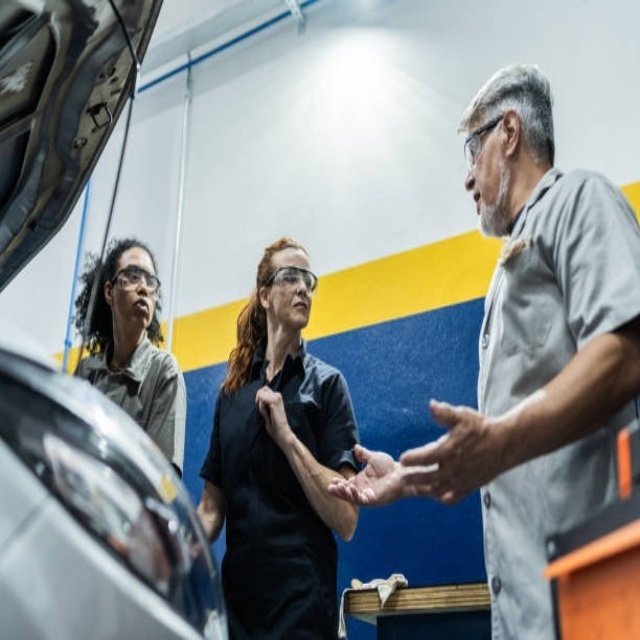Gafas: (464, 111, 509, 168), (264, 266, 318, 296), (112, 267, 161, 293)
Sin_guantes: (394, 396, 499, 506), (326, 438, 394, 516), (252, 382, 290, 441)
Sin_mascara: (464, 175, 499, 225), (130, 294, 155, 329), (289, 299, 313, 324)
